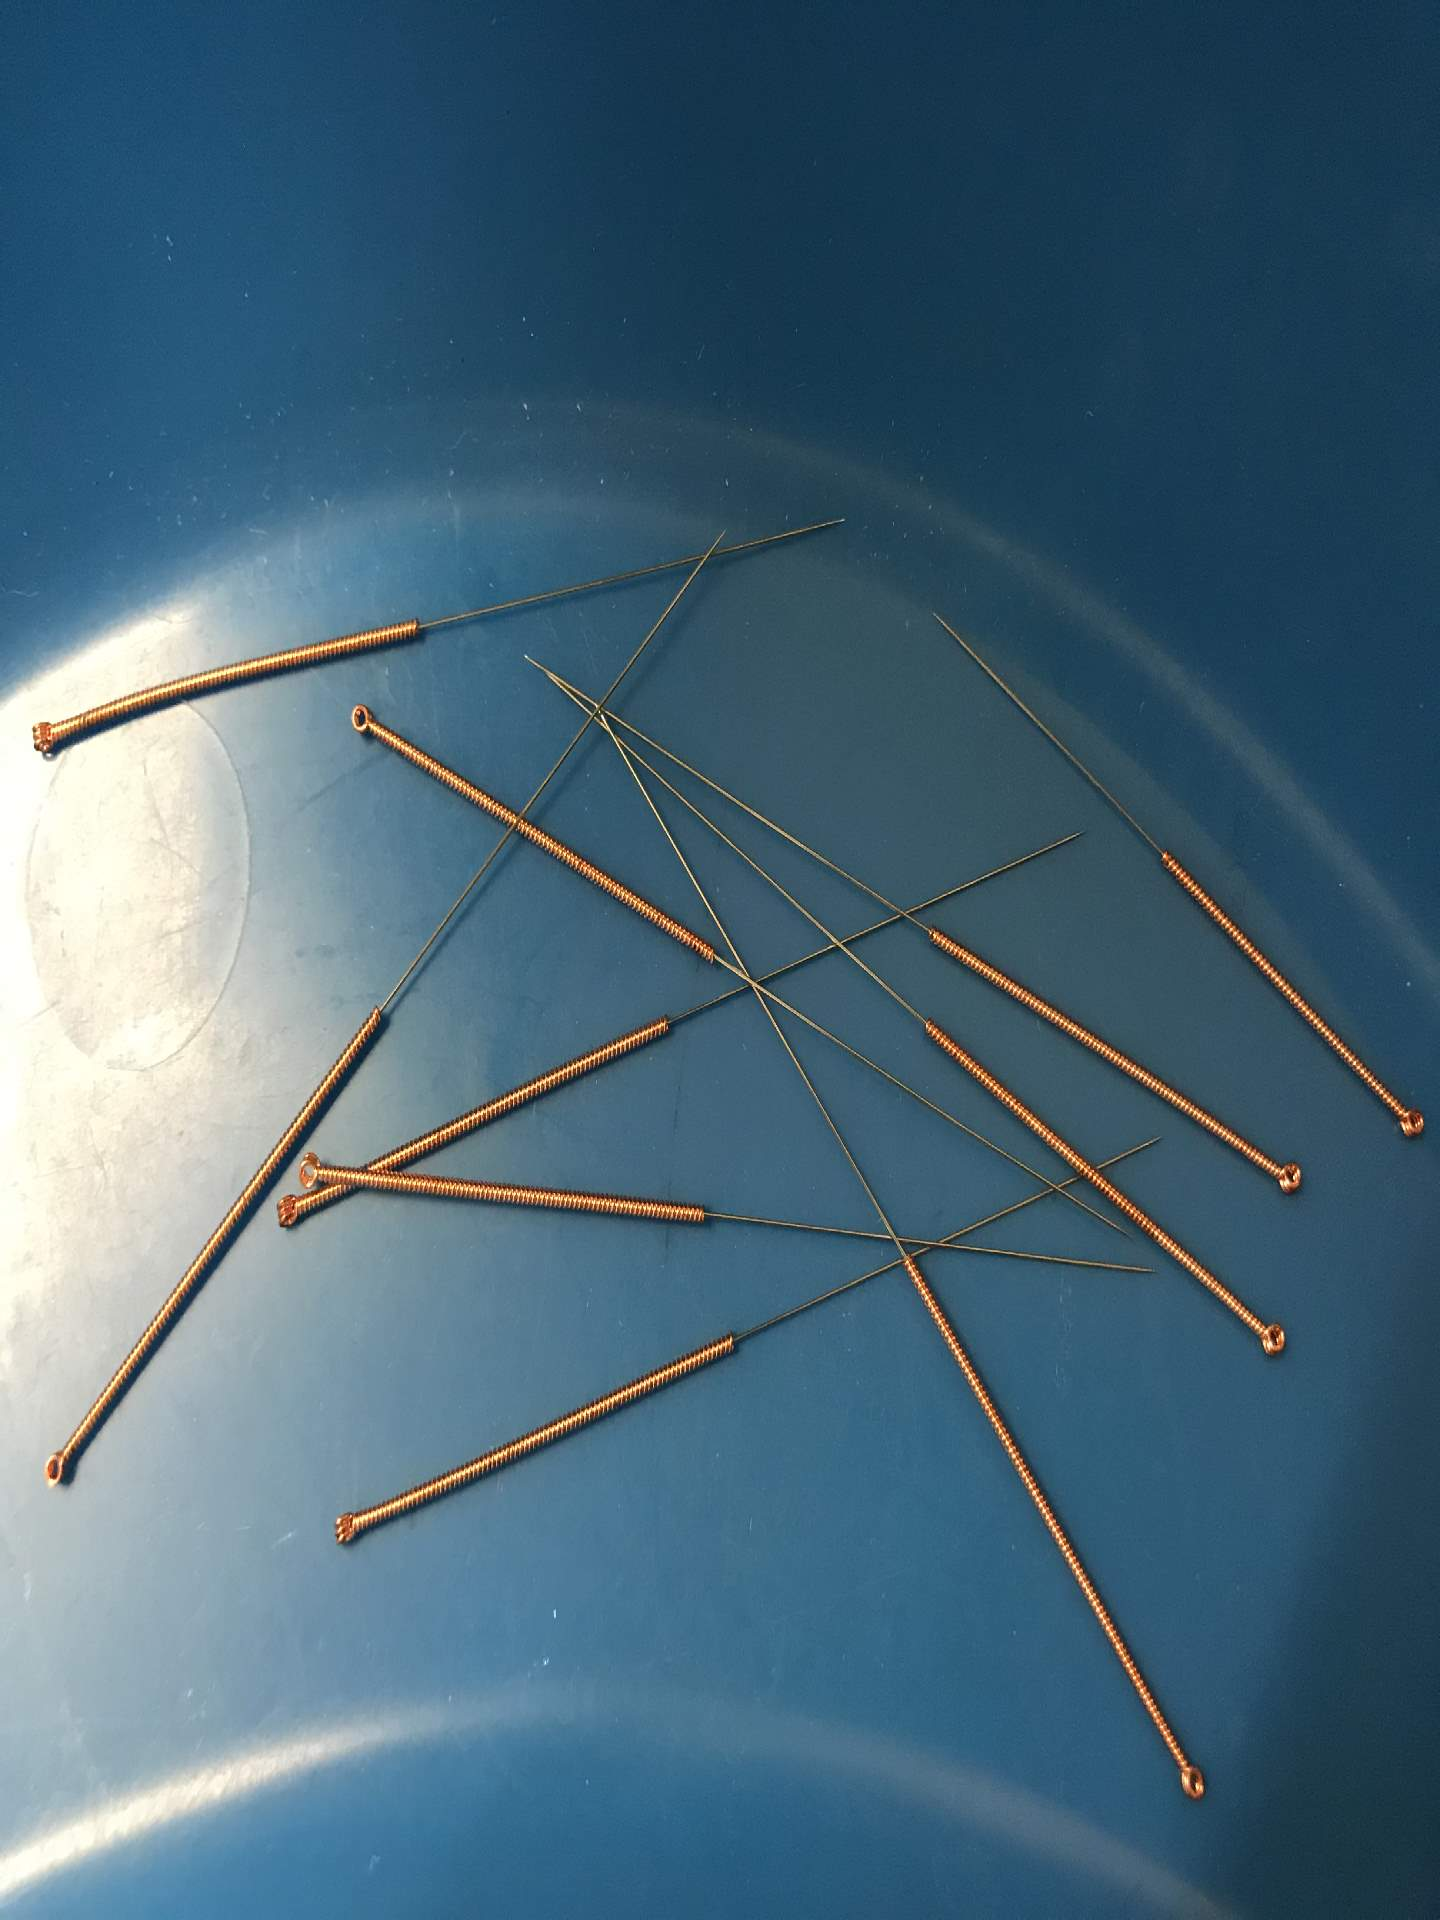needle: (17, 705, 76, 765), (1243, 1308, 1296, 1367), (1168, 1748, 1215, 1814), (33, 1435, 79, 1503), (336, 694, 392, 748), (1260, 1150, 1314, 1205), (321, 1500, 371, 1559), (1386, 1093, 1432, 1150), (268, 1188, 309, 1237), (292, 1147, 331, 1193)
